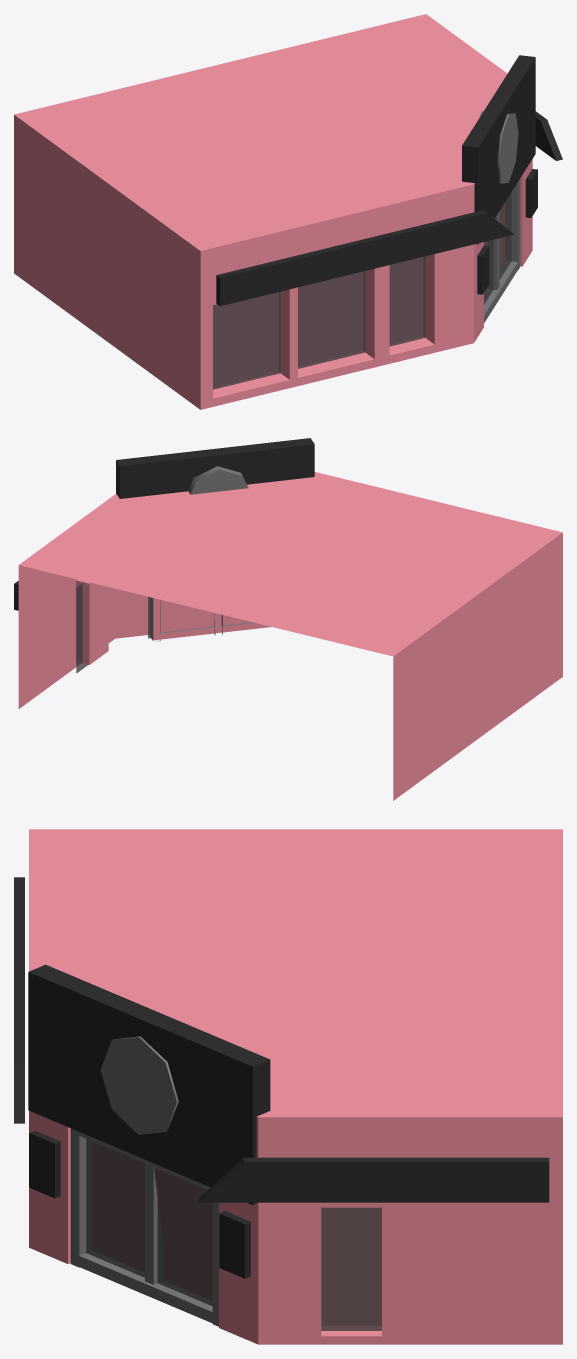
The model's file is edificio4.fbx.
3 views of the same model, one above another, from view 1: azimuth 30°, elevation 25°; view 2: azimuth 150°, elevation 25°; view 3: azimuth 270°, elevation 25° (orthographic). The views are drawn at different scales.
Parts seen in each view (by area): view 1: BASE, Cartel, Ventanas-Puertas, CSGBakedMeshInstance3D, Logo, Carteles-Peqes; view 2: BASE, Cartel, Logo, Ventanas-Puertas; view 3: BASE, Cartel, Ventanas-Puertas, CSGBakedMeshInstance3D, Logo, Carteles-Peqes.
Boxes of the visible parts, <box> form: BASE: <box>14,14,532,409</box>; Cartel: <box>216,55,562,306</box>; Ventanas-Puertas: <box>213,192,511,389</box>; CSGBakedMeshInstance3D: <box>484,178,520,322</box>; Logo: <box>479,111,518,183</box>; Carteles-Peqes: <box>477,169,537,294</box>; BASE: <box>18,472,562,800</box>; Cartel: <box>14,438,314,610</box>; Logo: <box>188,466,248,494</box>; Ventanas-Puertas: <box>76,583,151,673</box>; BASE: <box>29,829,562,1344</box>; Cartel: <box>14,877,549,1204</box>; Ventanas-Puertas: <box>86,1139,381,1330</box>; CSGBakedMeshInstance3D: <box>70,1128,218,1326</box>; Logo: <box>100,1036,178,1134</box>; Carteles-Peqes: <box>29,1130,250,1278</box>.
Size of the model in its own units: 776 by 343 by 611.
